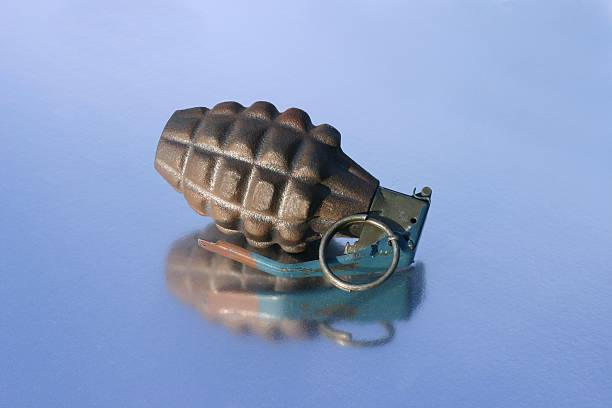e1: (152, 103, 433, 291)
